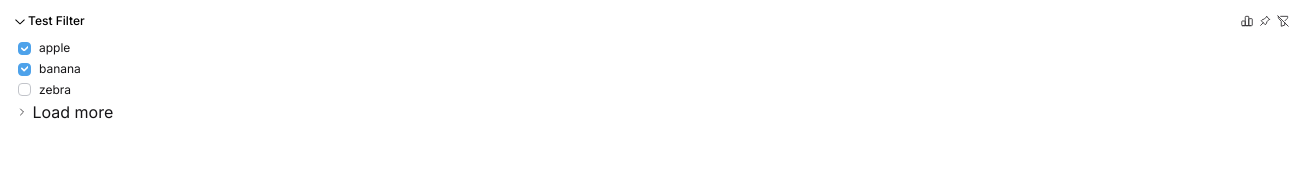
Test: FilterGroup › should keep estimated percentages when the field filter allows several values
Step 1. Click the checkbox with test id "toggle-distribution-button-Test Filter" → (1247, 21), box [1238,12,1256,30]
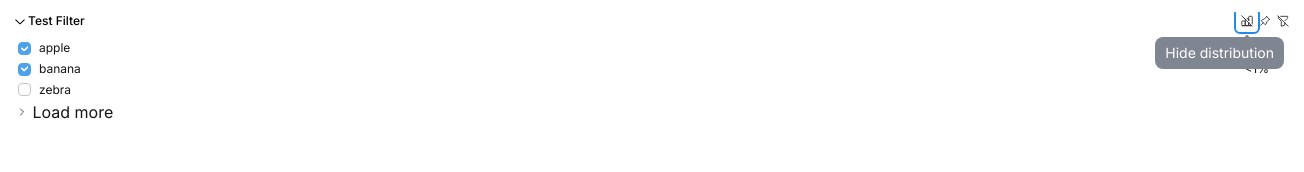
Expected: the text with test id "filter-distribution-Test Filter-apple" reads ">99%", [1234,40,1269,55]
